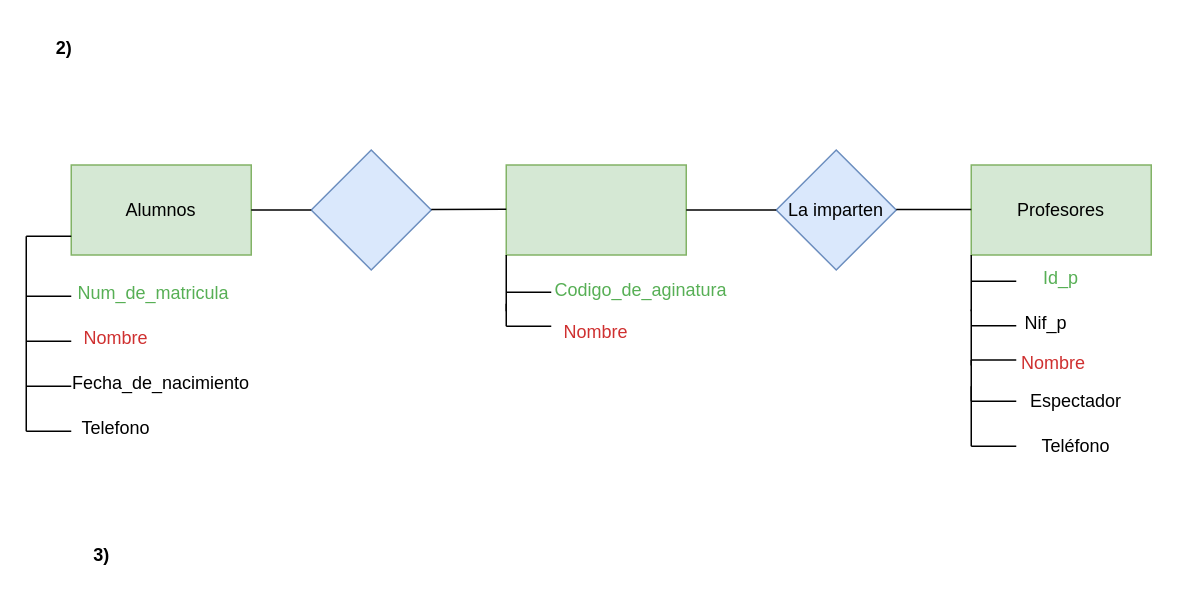
The diagram is 1178 pixels wide and 603 high, and some of its shapes have lost their labels. Here are the shapes that lost their labels. From the top down, the centre of each, then its label:
(370,209): se matriculan
(595,209): Asignaturas
